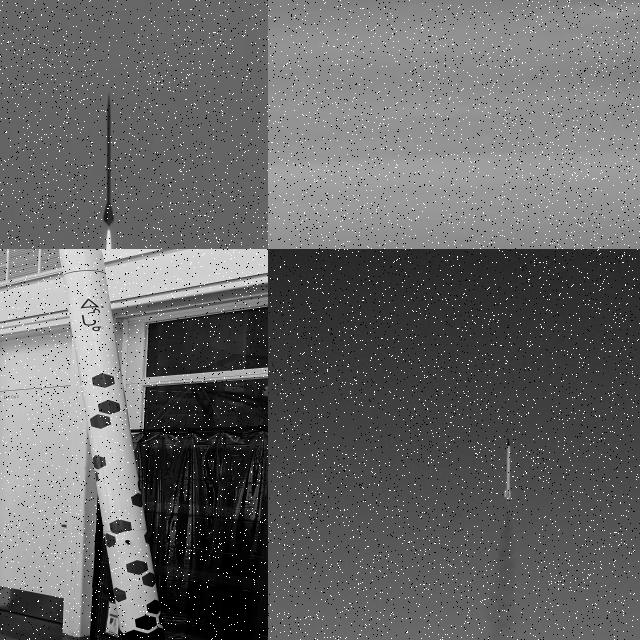Rocket: (58, 249, 165, 640), (103, 91, 114, 232), (502, 436, 512, 502)
